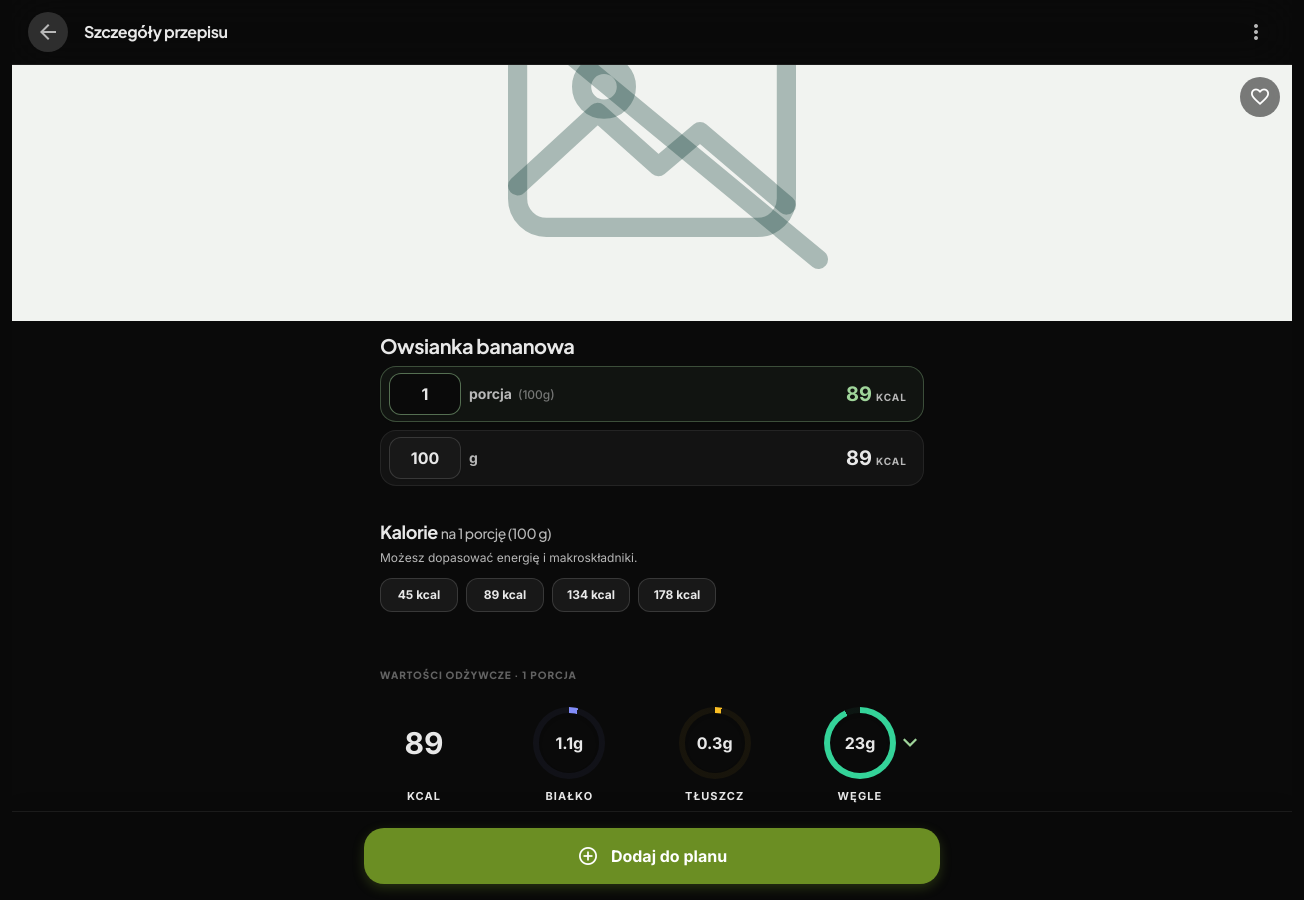
Test case: RecipeDetails loading › recalculates calories for the typed weight
Replace the text in the number field named "Gramy" with "200" at (425, 458), box [389,437,461,479]
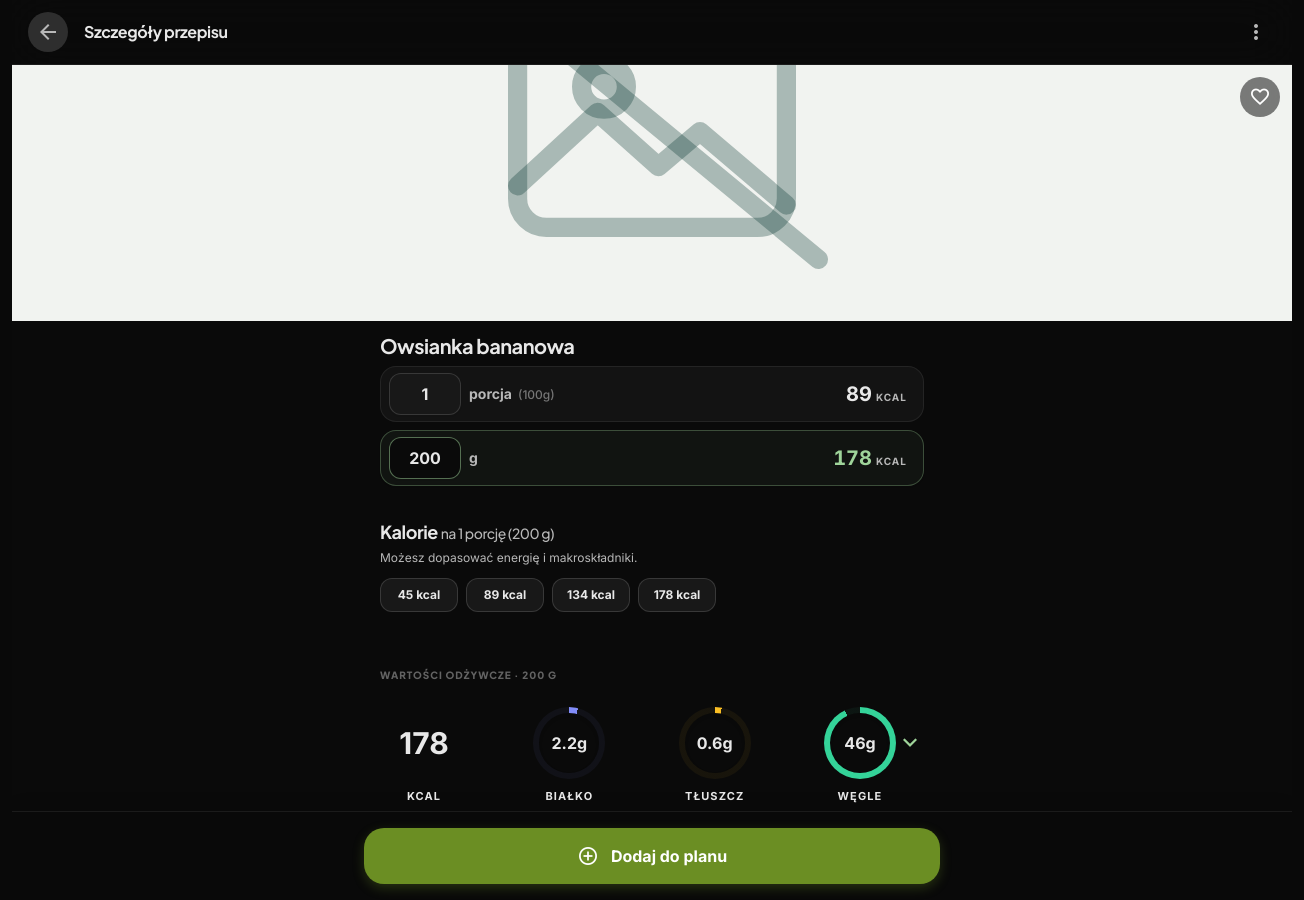
Result: the 1st text "178" is shown at [833,444,872,472]
